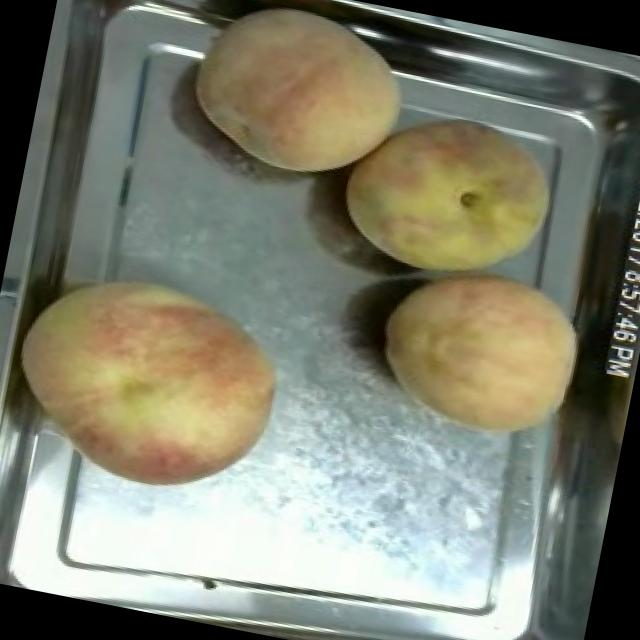Fruit: (0, 245, 306, 518), (322, 90, 572, 304), (358, 244, 602, 463), (169, 0, 430, 202)
